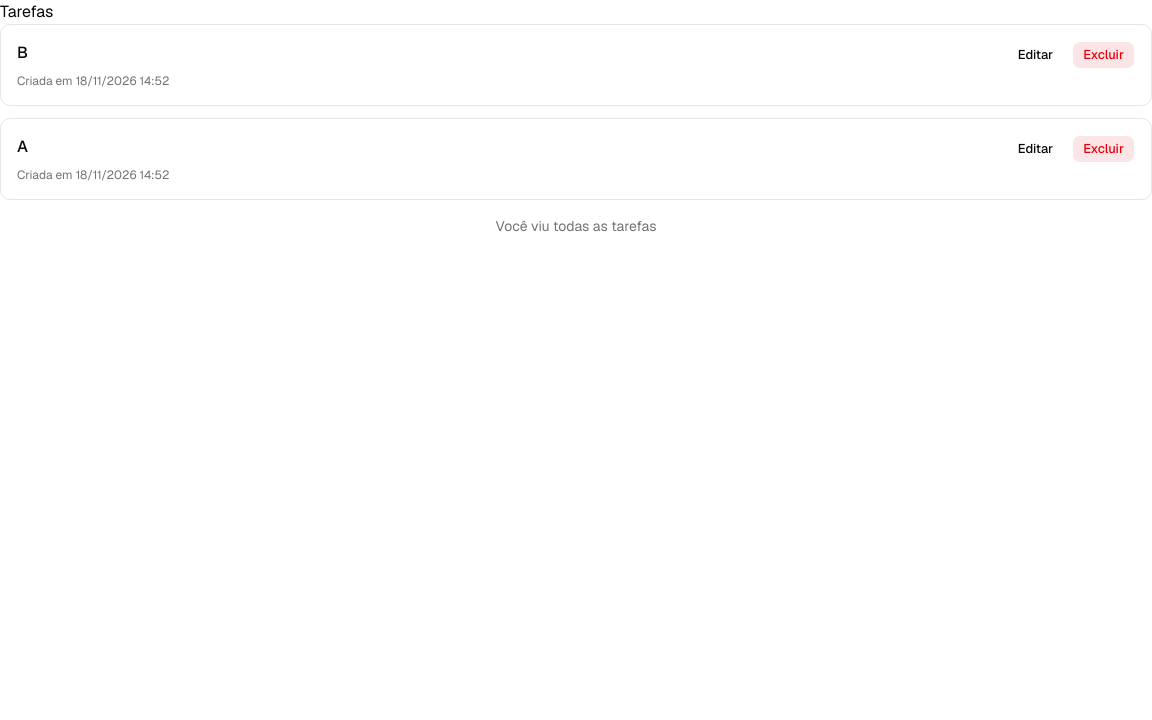
Test: fluxo de exclusão › cancelar não exclui e devolve o foco ao gatilho
This screenshot has width=1152, height=720.
Click the button with aria-label "Excluir A": point(1104, 149) top-left (1072, 135), bottom-right (1135, 163)
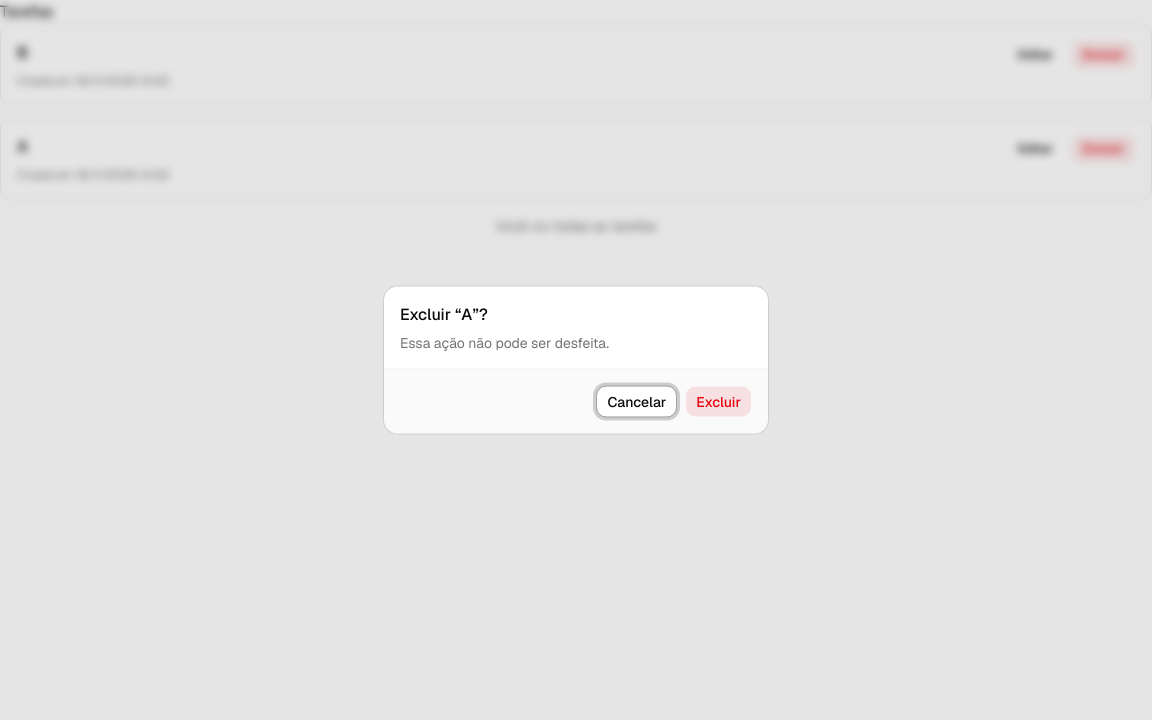
Click the button "Cancelar": point(637, 402) top-left (596, 386), bottom-right (677, 418)
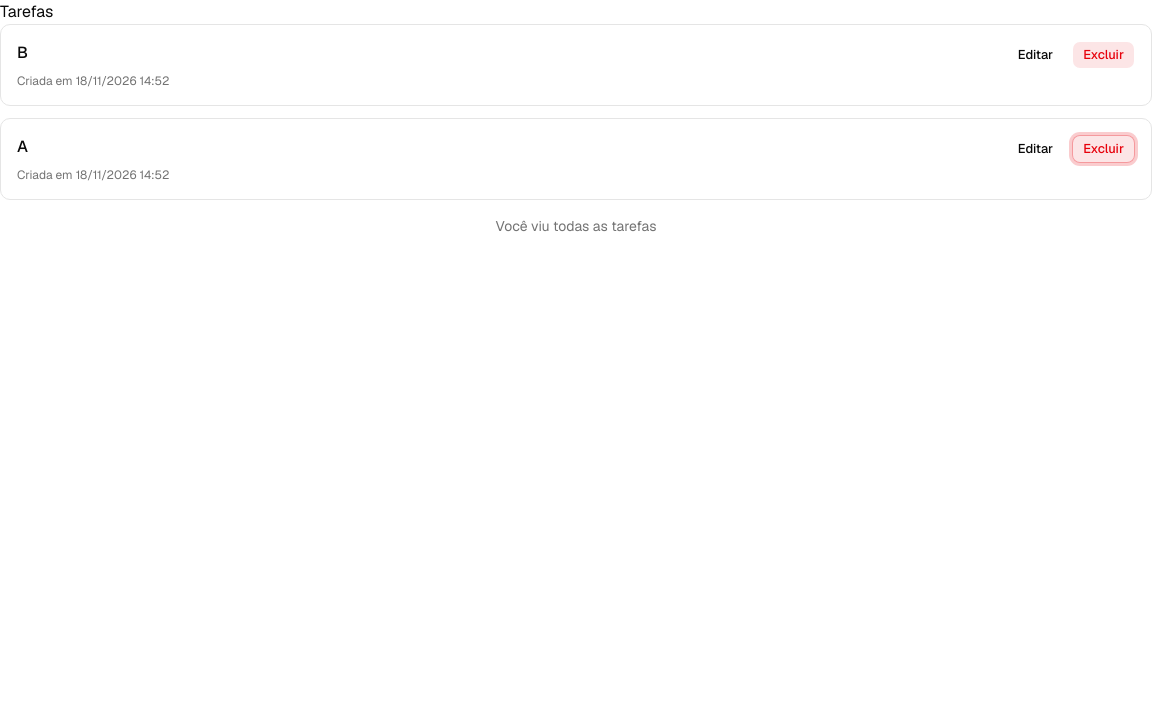
Expected: the number of list items is 2, top-left (0, 24), bottom-right (1151, 106); top-left (0, 118), bottom-right (1151, 200)
Expected: the dialog is gone
